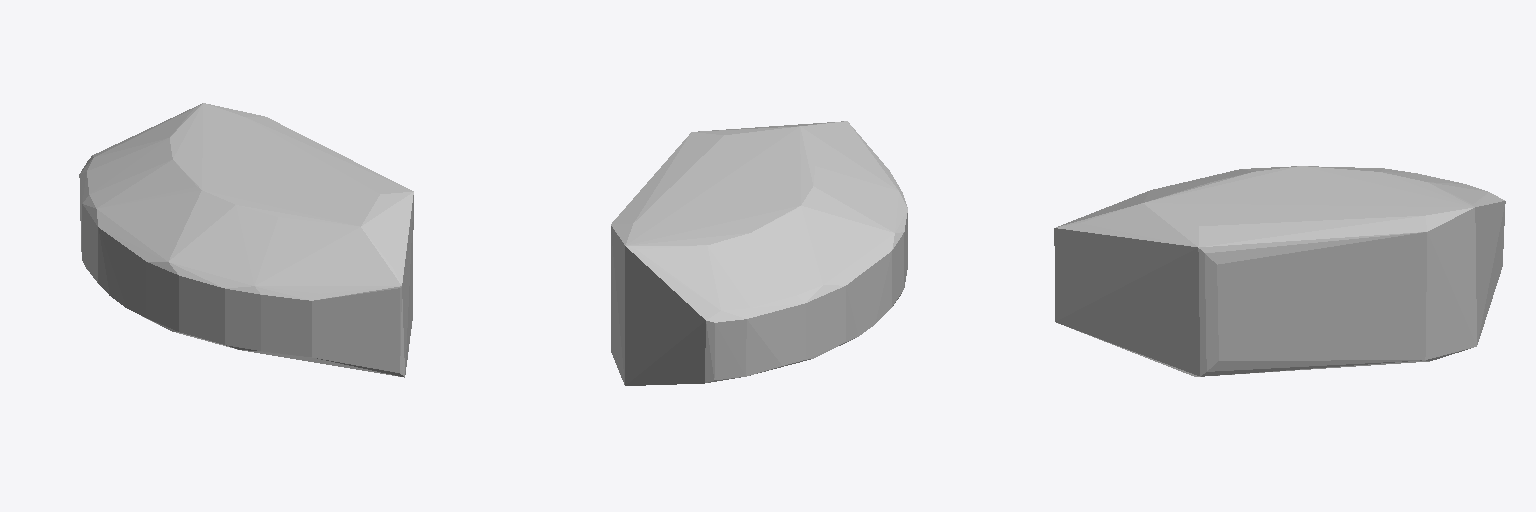
File: solo_lower_leg_v2_right_side_collision_6.obj
3 renders of one model, left to right at view 1: azimuth 30°, elevation 25°; view 2: azimuth 150°, elevation 25°; view 3: azimuth 270°, elevation 25°, orthographic.
Size of the model in its own units: 0.0175 by 0.01 by 0.0289.